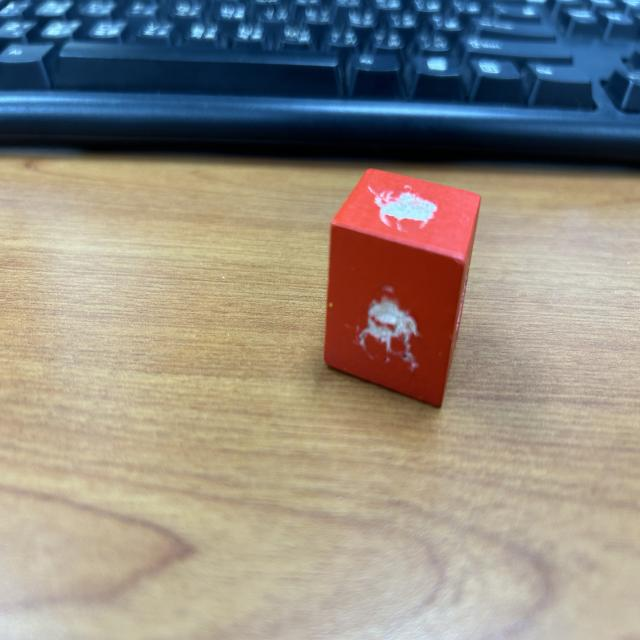broken: (323, 168, 482, 410)
